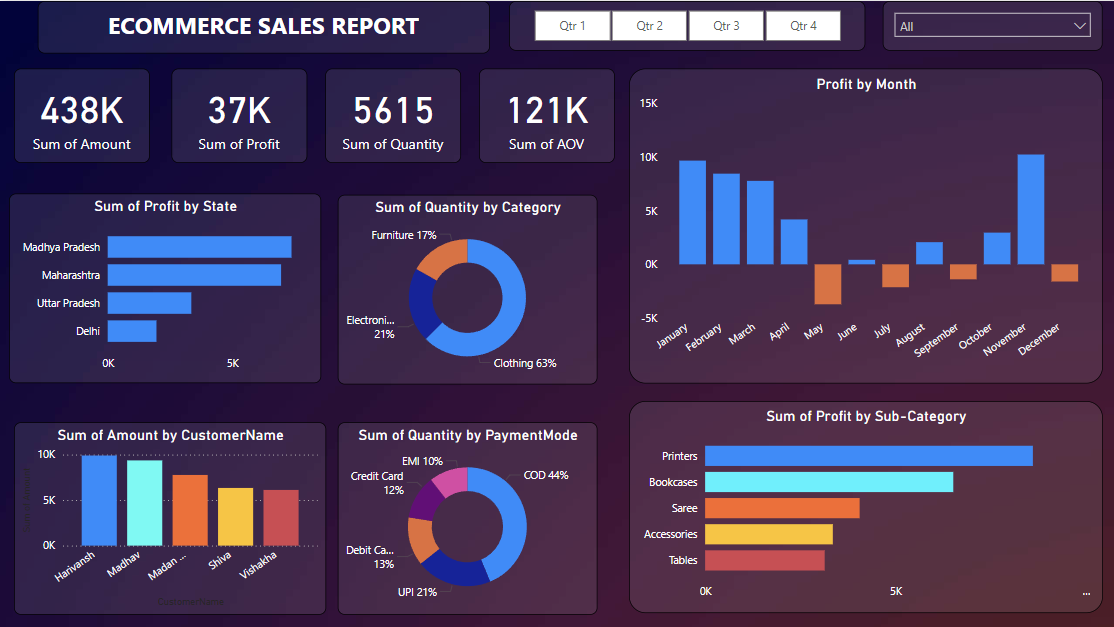

The page's visual inventory and layout, read from the dashboard file:
{"tool":"powerbi","page":{"name":"Page 1","canvas":[1280,720],"ordinal":0},"visuals":[{"type":"textbox","box":[45,0,516.7,60],"z":0},{"type":"columnChart","title":"Profit by Month","fields":{"Category":["Orders.Order Date.Variation.Date Hierarchy.Month"],"Y":["Details.Profit"]},"box":[720,77.5,541.2,360],"z":1000},{"type":"barChart","fields":{"Category":["Details.Sub-Category"],"Y":["Details.Profit"]},"box":[720,457.5,541.2,242.5],"z":2000},{"type":"donutChart","fields":{"Category":["Details.Category"],"Y":["Details.Quantity"]},"box":[386.7,221.7,296.7,216.7],"z":3000},{"type":"donutChart","fields":{"Category":["Details.PaymentMode","Details.Category"],"Y":["Details.Quantity"]},"box":[386.7,481.7,296.7,220],"z":4000},{"type":"barChart","fields":{"Category":["Orders.State"],"Y":["Details.Profit"]},"box":[11.7,220,356.7,216.7],"z":5000},{"type":"card","fields":{"Values":["Details.Amount"]},"box":[16.7,76.7,155,108.3],"z":6000},{"type":"card","fields":{"Values":["Details.Quantity"]},"box":[373.3,76.7,155,108.3],"z":7000},{"type":"card","fields":{"Values":["Details.Profit"]},"box":[196.7,76.7,155,108.3],"z":8000},{"type":"card","fields":{"Values":["Details.AOV"]},"box":[548.3,76.7,155,108.3],"z":9000},{"type":"columnChart","fields":{"Category":["Orders.CustomerName"],"Y":["Details.Amount"]},"box":[16.7,481.7,356.7,220],"z":9001},{"type":"slicer","fields":{"Values":["Orders.Order Date.Variation.Date Hierarchy.Quarter"]},"box":[583.3,14,407.3,57.3],"z":9002},{"type":"slicer","fields":{"Values":["Orders.State"]},"box":[998,14.7,251.3,56.7],"z":9003}]}

Visuals, with their boxes in screenshot pixels (x1, y1, x2, y2), scaled from the page's 1280x720 canvas onto the 1114x627 screenshot:
textbox: x1=39, y1=0, x2=489, y2=52
"Profit by Month" columnChart: x1=627, y1=67, x2=1098, y2=381
barChart - Details.Sub-Category x Details.Profit: x1=627, y1=398, x2=1098, y2=610
donutChart - Details.Category x Details.Quantity: x1=337, y1=193, x2=595, y2=382
donutChart - Details.PaymentMode x Details.Category: x1=337, y1=419, x2=595, y2=611
barChart - Orders.State x Details.Profit: x1=10, y1=192, x2=321, y2=380
card - Details.Amount: x1=15, y1=67, x2=149, y2=161
card - Details.Quantity: x1=325, y1=67, x2=460, y2=161
card - Details.Profit: x1=171, y1=67, x2=306, y2=161
card - Details.AOV: x1=477, y1=67, x2=612, y2=161
columnChart - Orders.CustomerName x Details.Amount: x1=15, y1=419, x2=325, y2=611
slicer - Orders.Order Date.Variation.Date Hierarchy.Quarter: x1=508, y1=12, x2=862, y2=62
slicer - Orders.State: x1=869, y1=13, x2=1087, y2=62
